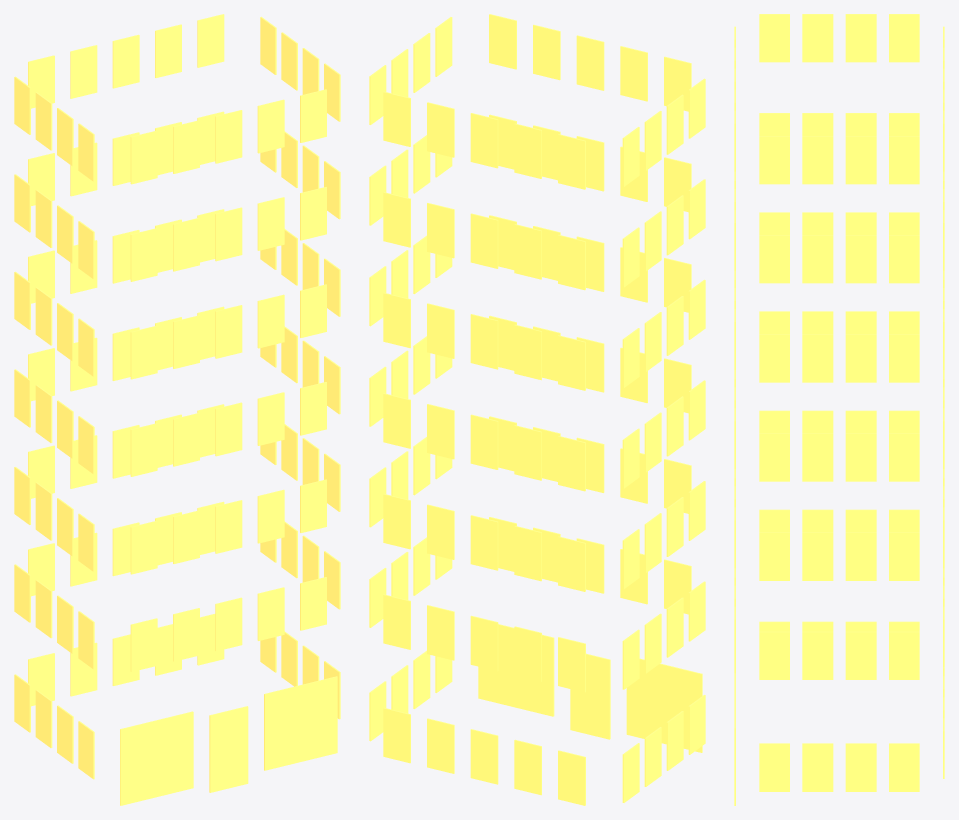
Rendered from Apartment_Grey_Glow.glb.
The picture shows the model from 3 angles, left to right: view 1: azimuth 30°, elevation 25°; view 2: azimuth 150°, elevation 25°; view 3: azimuth 270°, elevation 25°; orthographic projection. The views are drawn at different scales.
Visible parts, largest first — view 1: Apartment_Grey_Glow; view 2: Apartment_Grey_Glow; view 3: Apartment_Grey_Glow.
Boxes of the visible parts, x1=… form: Apartment_Grey_Glow: x1=14, y1=14, x2=340, y2=805; Apartment_Grey_Glow: x1=369, y1=14, x2=705, y2=805; Apartment_Grey_Glow: x1=734, y1=14, x2=944, y2=805.
Size of the model in its own units: 29.16 by 76.1 by 21.16.
